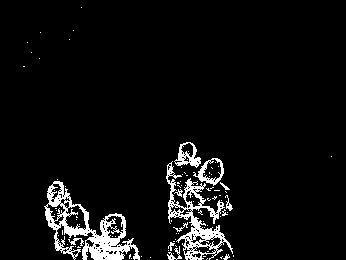person: (167, 206, 235, 260), (186, 157, 234, 220), (164, 141, 197, 231), (84, 212, 142, 260), (44, 181, 71, 250), (64, 205, 90, 254)
